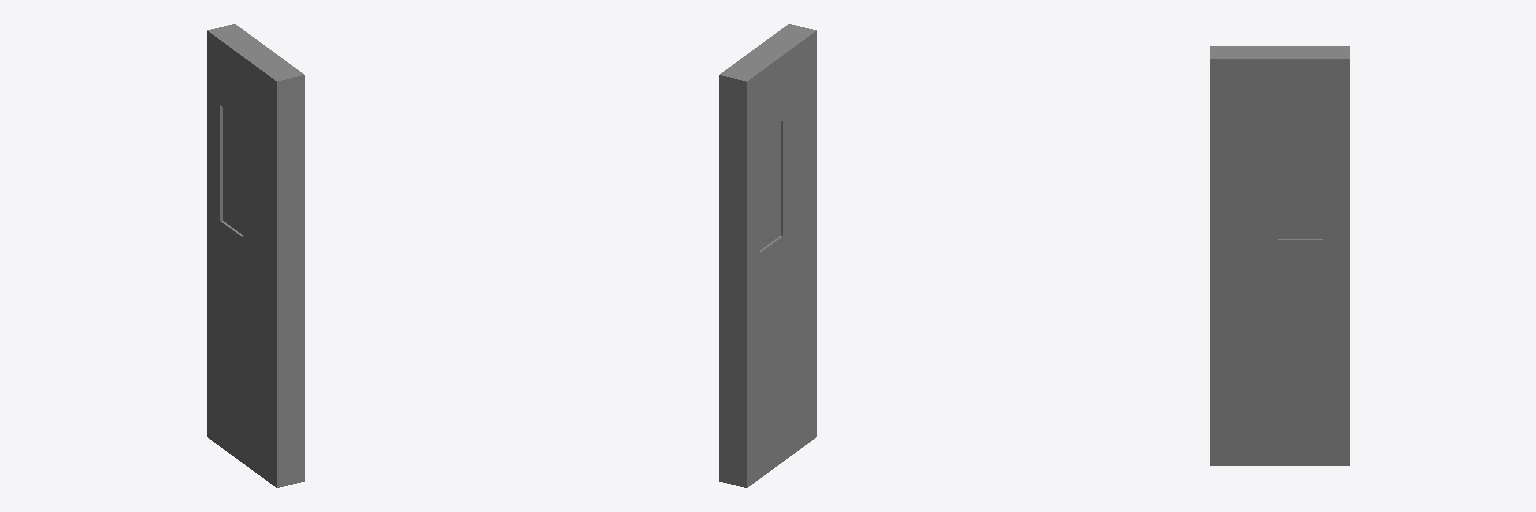
The model's file is Elevator_door_left(window).obj.
3 views of the same model, side by side, from view 1: azimuth 30°, elevation 25°; view 2: azimuth 150°, elevation 25°; view 3: azimuth 270°, elevation 25° (orthographic).
Parts seen in each view (by area): view 1: ??????_?_??_; view 2: ??????_?_??_; view 3: ??????_?_??_.
Part boxes in pixels (bbox=[...]): ??????_?_??_: bbox=[207, 24, 304, 487]; ??????_?_??_: bbox=[719, 24, 816, 487]; ??????_?_??_: bbox=[1210, 46, 1349, 465].
Size of the model in its own units: 0.2042 by 2.85 by 0.8875.